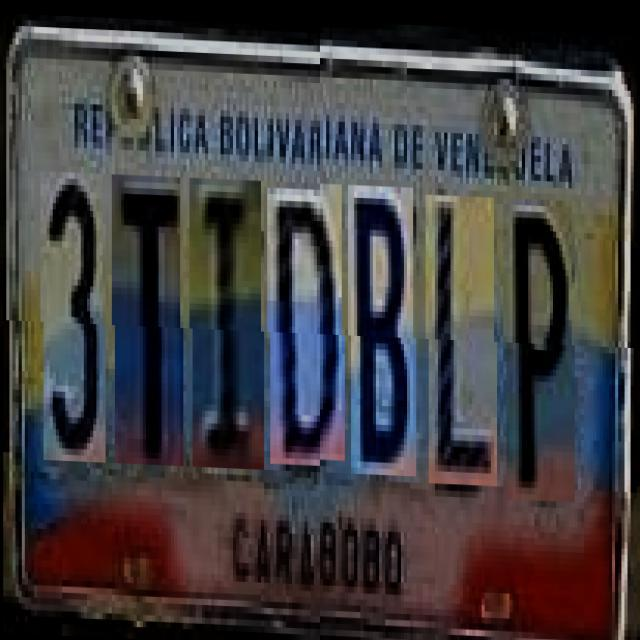3: (44, 164, 106, 456)
B: (351, 182, 416, 472)
D: (270, 178, 345, 458)
I: (193, 170, 264, 461)
L: (429, 190, 497, 482)
P: (506, 194, 575, 497)
T: (115, 167, 183, 458)
